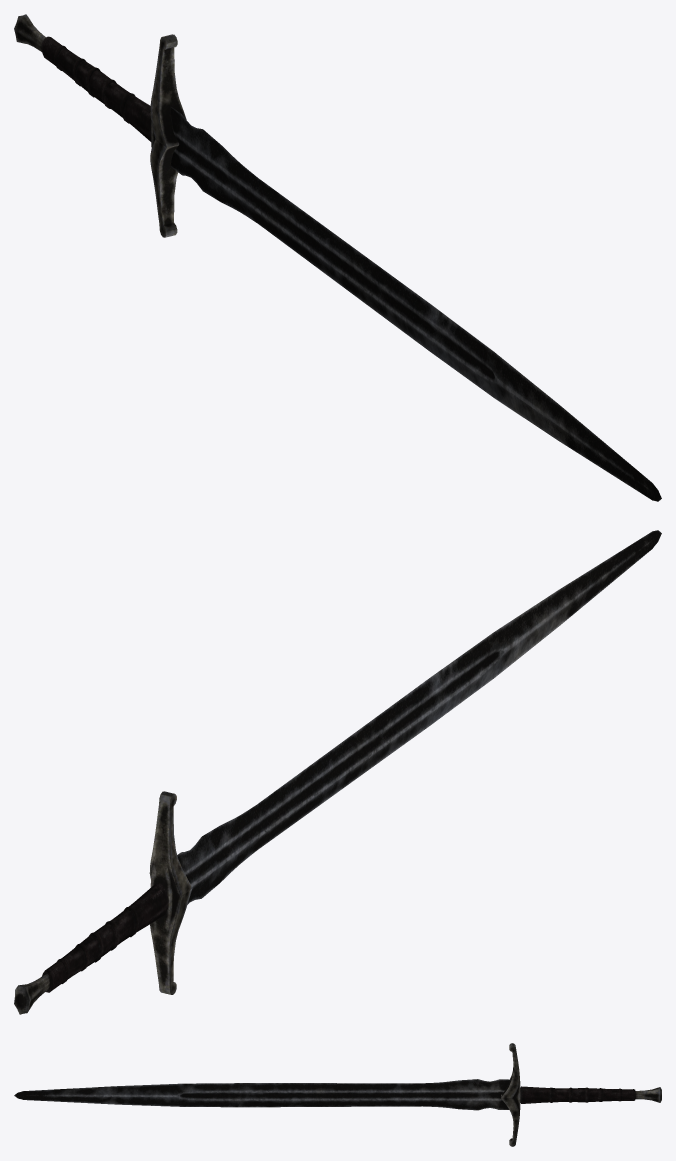
The model's file is weapon_sword_v2.glb.
3 renders of one model, top to bottom at view 1: azimuth 30°, elevation 25°; view 2: azimuth 150°, elevation 25°; view 3: azimuth 270°, elevation 25°, orthographic. The views are drawn at different scales.
Parts seen in each view (by area): view 1: sword; view 2: sword; view 3: sword.
Part boxes in pixels (x1,y1,x2,y2): sword: [14, 14, 661, 501]; sword: [14, 530, 661, 1014]; sword: [14, 1043, 661, 1146].
Bounding box in the file's own units: 0.0317 × 0.2264 × 1.31.
1 material, 1 textured.
